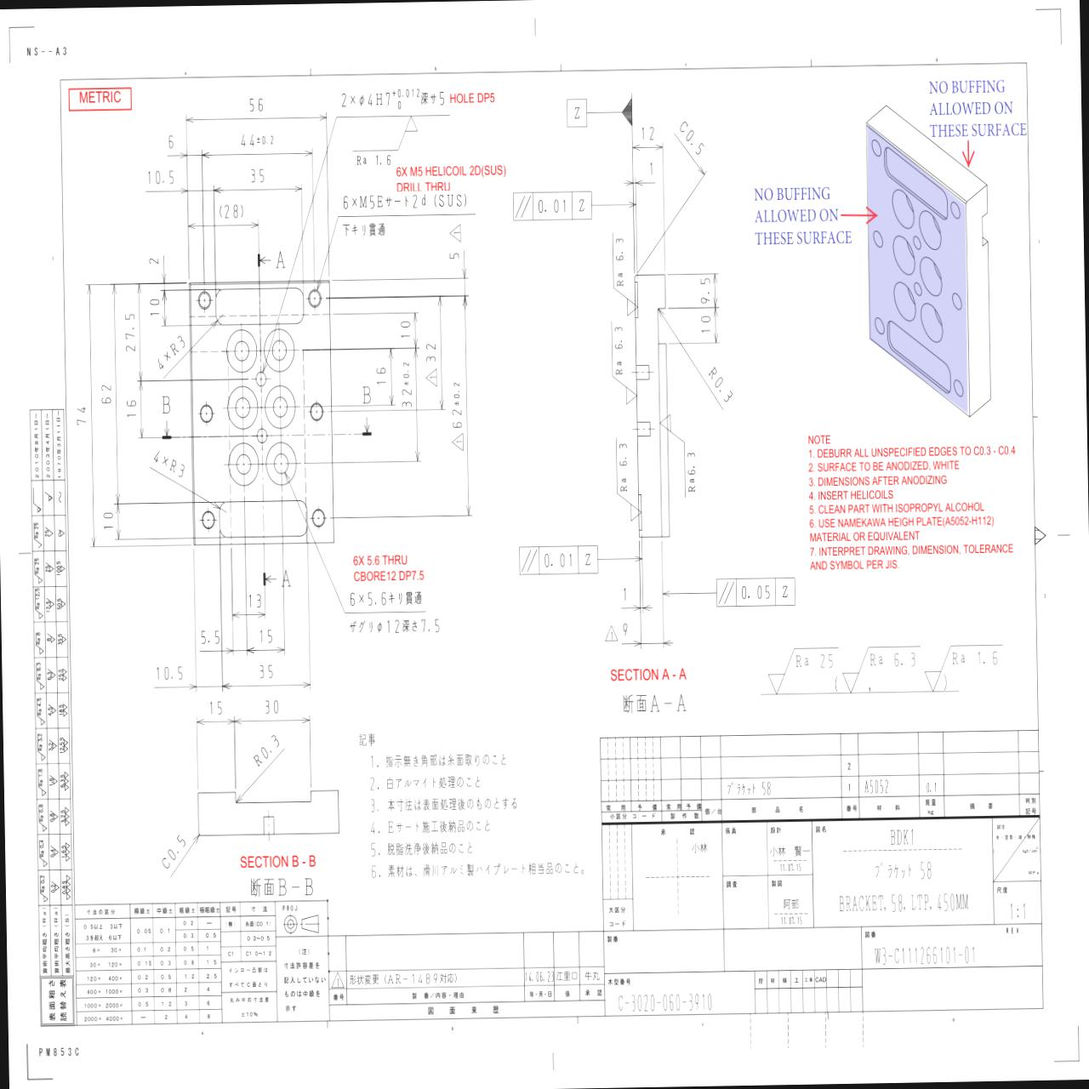basic_dimension: (401, 362, 412, 408), (452, 382, 462, 428), (241, 134, 274, 147), (125, 314, 136, 352), (157, 666, 183, 681), (148, 170, 174, 184), (700, 277, 711, 304), (201, 630, 220, 644), (101, 383, 112, 405), (265, 699, 279, 715), (103, 511, 114, 530), (126, 400, 137, 418), (259, 664, 273, 678), (251, 168, 264, 183), (641, 126, 654, 141), (77, 406, 87, 425), (400, 321, 411, 338), (249, 98, 263, 111), (260, 629, 273, 643), (225, 204, 237, 219), (150, 299, 160, 317), (426, 344, 436, 362), (376, 368, 386, 385), (210, 701, 222, 715), (249, 594, 261, 607), (701, 316, 710, 333), (149, 257, 159, 266), (449, 253, 459, 260), (169, 134, 173, 149), (650, 161, 654, 176), (623, 623, 627, 637), (624, 587, 626, 601)
datum_symbol: (567, 98, 632, 127)
dimension_chamfer_symbol: (160, 834, 187, 871), (678, 119, 705, 156)
dimension_diameter_symbol: (358, 88, 420, 111), (376, 617, 399, 637)
dimension_metric_symbol: (359, 194, 375, 209)
dimension_radius_symbol: (708, 365, 734, 404), (253, 733, 280, 768), (168, 456, 186, 480), (169, 334, 186, 357)
gdt_frame_symbol: (511, 188, 596, 224), (516, 542, 600, 577), (715, 574, 798, 609)
gdt_parallelism_symbol: (718, 580, 736, 606), (514, 194, 532, 219), (520, 549, 538, 573)
revision_triangle_symbol: (448, 224, 461, 243), (605, 624, 619, 641), (451, 433, 464, 451), (425, 368, 437, 387)
surface_finish_symbol: (924, 644, 1003, 693), (842, 646, 921, 694), (767, 647, 839, 695), (352, 115, 418, 152), (615, 437, 642, 522), (659, 414, 686, 498), (612, 232, 638, 317), (611, 320, 637, 405)
